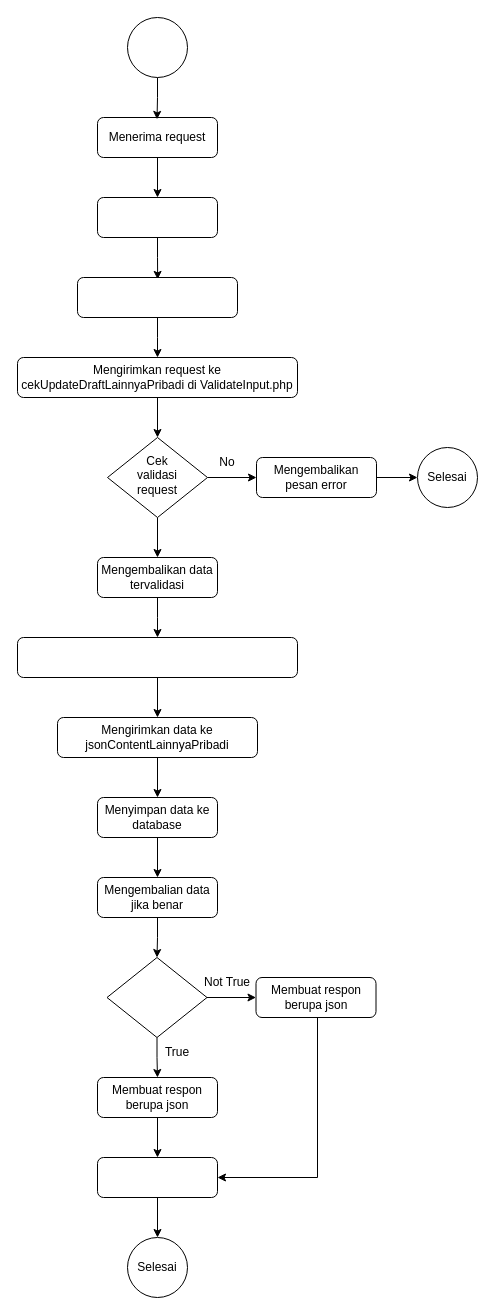
Some shapes in this 495 by 1315 pixel diagram are drawn without their labels. Each missing label, with the centre of its shape:
"Cek hasil pengembalian" belongs at (x=156, y=997).
"Membaca controller fungsi updateDraftLainnyaPribadi" belongs at (x=157, y=297).
"Mengakses route" belongs at (x=157, y=217).
"Mengembalikan respon" belongs at (x=157, y=1177).
"Mengirimkan data tervalidasi ke updateDraftLainnyaPribadi di DraftRepository.php" belongs at (x=157, y=657).
"Mulai" belongs at (x=157, y=47).
